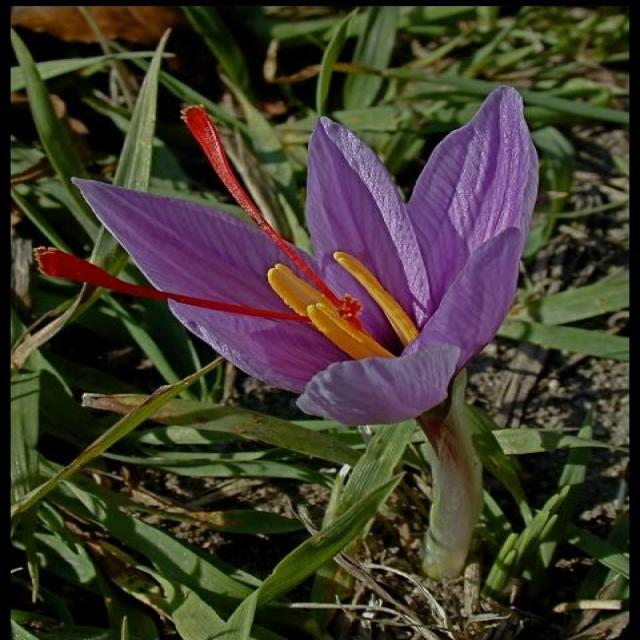Flower: (71, 88, 565, 434)
stigma: (32, 246, 260, 320), (180, 103, 292, 244)
